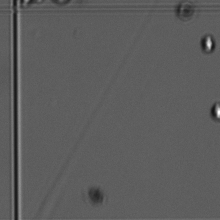Dead Cell: (85, 185, 106, 204), (176, 2, 196, 21)
Living Cell: (200, 33, 217, 54)
